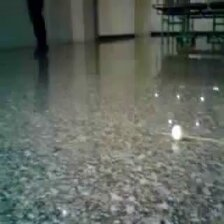w: (170, 123, 185, 141)
